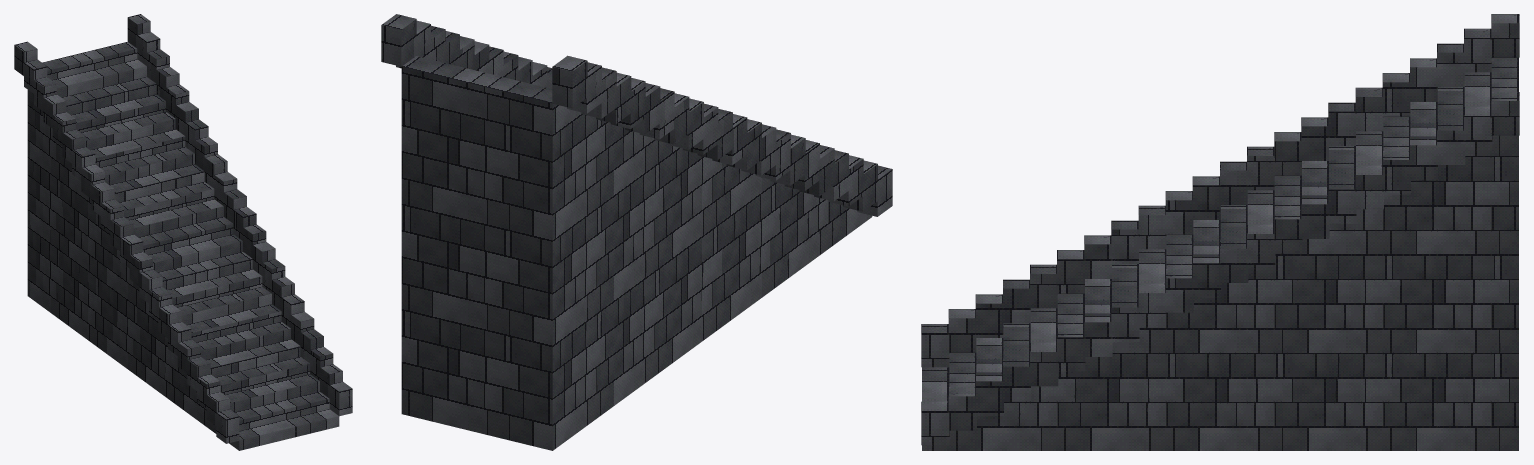
The model's file is escalera_piedra.obj.
3 views of the same model, side by side, from view 1: azimuth 30°, elevation 25°; view 2: azimuth 150°, elevation 25°; view 3: azimuth 270°, elevation 25° (orthographic). The views are drawn at different scales.
Visible parts, largest first — view 1: escalera_piedra; view 2: escalera_piedra; view 3: escalera_piedra.
Part boxes in pixels (<box>): escalera_piedra: <box>14,14,352,450</box>; escalera_piedra: <box>381,14,892,450</box>; escalera_piedra: <box>921,14,1519,450</box>.
Size of the model in its own units: 3.8 by 7.3 by 11.02.
Materials: 1 (1 with a texture image).
